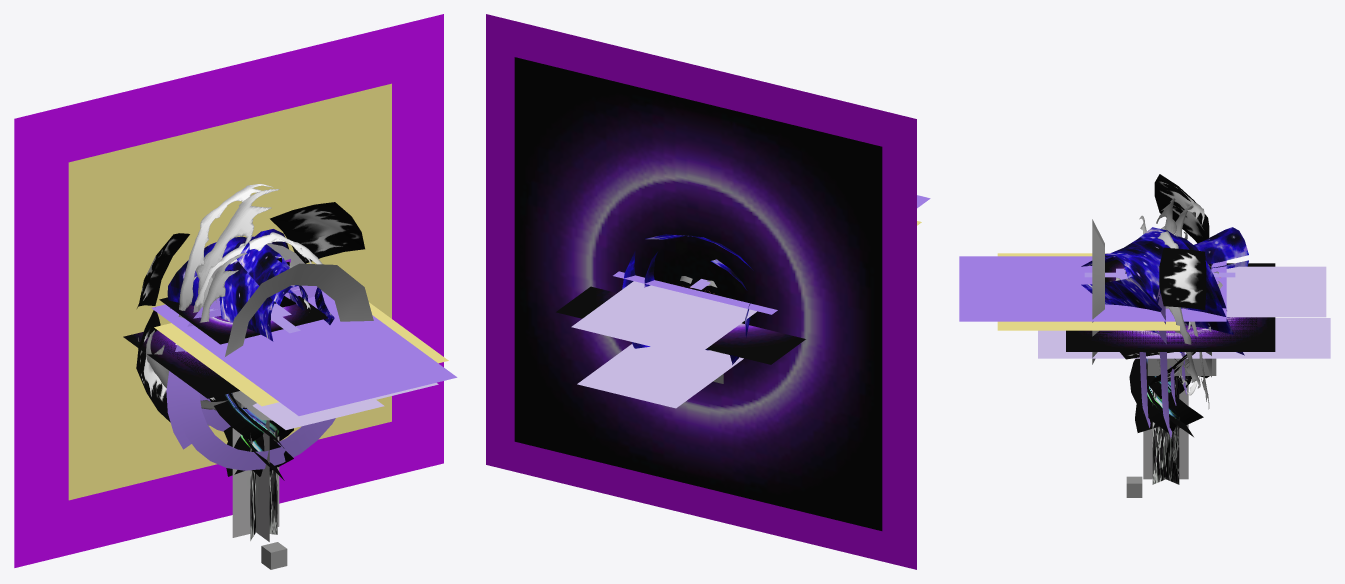
3 renders of one model, left to right at view 1: azimuth 30°, elevation 25°; view 2: azimuth 150°, elevation 25°; view 3: azimuth 270°, elevation 25°, orthographic. The views are drawn at different scales.
Visible parts, largest first — view 1: "object0889_Editable Poly@#77", "object0883_Editable Poly@#76", "object0789_Editable Poly@#65", "object0291_Editable Poly@#15", "object0909_Editable Poly@#82", "object1309_Editable Mesh@#130", "object0805_Editable Poly@#66", "object0869_Editable Poly@#74", "object0622_Editable Poly@#54", "object0631_Editable Poly@#55", "object0759_Editable Poly@#62", "object0770_Editable Poly@#63" (+10 smaller); view 2: object0831_Plane@#68, "object0889_Editable Poly@#77", object0741_Plane, object0985_Plane@#92, "object0361_Editable Poly@#22", "object0789_Editable Poly@#65", "object0759_Editable Poly@#62"; view 3: "object0789_Editable Poly@#65", object0741_Plane, "object0361_Editable Poly@#22", "object0291_Editable Poly@#15", "object0759_Editable Poly@#62", object0985_Plane@#92, "object0622_Editable Poly@#54", "object0869_Editable Poly@#74", "object0370_Editable Poly@#23", "object0770_Editable Poly@#63", "object0641_Editable Poly@#56", "object0909_Editable Poly@#82" (+5 smaller).
Boxes of the visible parts, x1,y1,x2,y2 form: "object0889_Editable Poly@#77": (14, 14, 443, 567); "object0883_Editable Poly@#76": (68, 83, 391, 500); "object0789_Editable Poly@#65": (151, 292, 457, 415); "object0291_Editable Poly@#15": (136, 202, 364, 422); "object0909_Editable Poly@#82": (225, 263, 373, 420); "object1309_Editable Mesh@#130": (176, 285, 335, 470); "object0805_Editable Poly@#66": (179, 183, 322, 310); "object0869_Editable Poly@#74": (154, 302, 448, 406); "object0622_Editable Poly@#54": (209, 296, 295, 480); "object0631_Editable Poly@#55": (232, 420, 279, 541); "object0759_Editable Poly@#62": (167, 229, 308, 308); "object0770_Editable Poly@#63": (219, 236, 334, 341); object0831_Plane@#68: (514, 57, 882, 530); "object0889_Editable Poly@#77": (486, 14, 916, 569); object0741_Plane: (571, 281, 756, 357); object0985_Plane@#92: (577, 344, 743, 408); "object0361_Editable Poly@#22": (556, 286, 805, 364); "object0789_Editable Poly@#65": (613, 195, 930, 314); "object0759_Editable Poly@#62": (622, 234, 753, 364); "object0789_Editable Poly@#65": (959, 256, 1226, 321); object0741_Plane: (1226, 266, 1326, 317); "object0361_Editable Poly@#22": (1066, 263, 1275, 351); "object0291_Editable Poly@#15": (1150, 174, 1209, 385); "object0759_Editable Poly@#62": (1105, 227, 1248, 355); object0985_Plane@#92: (1038, 318, 1330, 358); "object0622_Editable Poly@#54": (1125, 271, 1203, 436); "object0869_Editable Poly@#74": (997, 253, 1179, 330); "object0370_Editable Poly@#23": (1083, 317, 1257, 344); "object0770_Editable Poly@#63": (1081, 235, 1229, 317); "object0641_Editable Poly@#56": (1152, 376, 1179, 484); "object0909_Editable Poly@#82": (1092, 219, 1104, 364).
Size of the model in its own units: 7.85 by 8.12 by 6.98.
